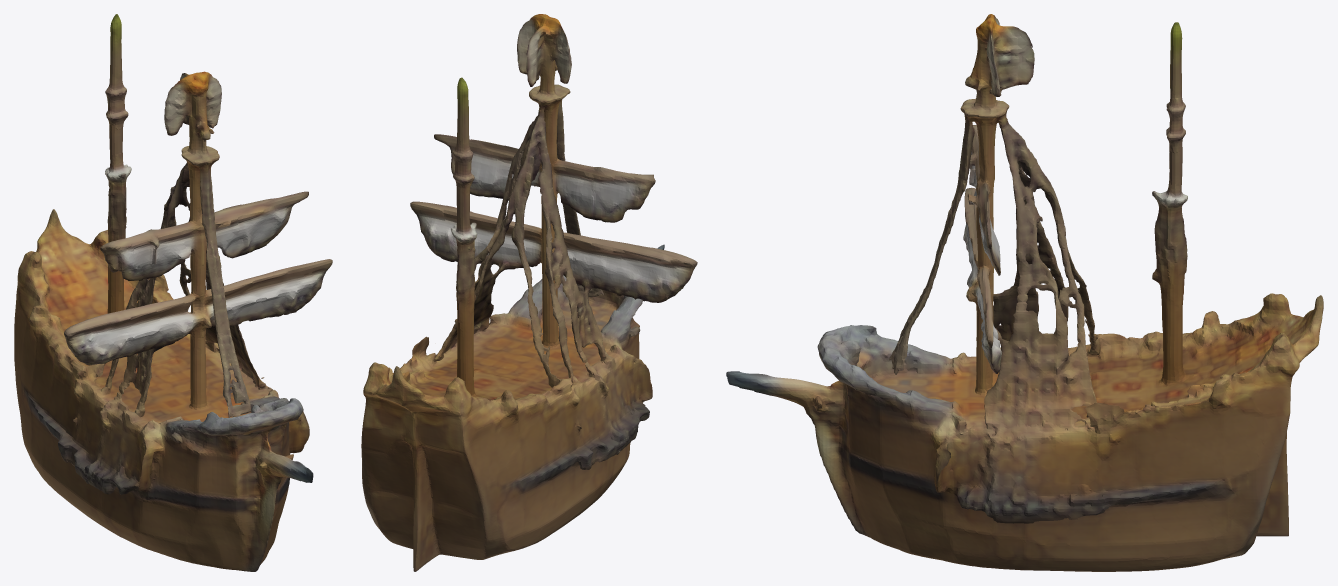
The model's file is fastsam3d.glb.
3 views of the same model, side by side, from view 1: azimuth 30°, elevation 25°; view 2: azimuth 150°, elevation 25°; view 3: azimuth 270°, elevation 25° (orthographic). The views are drawn at different scales.
Parts seen in each view (by area): view 1: world; view 2: world; view 3: world.
Part boxes in pixels (left/top/right/bottom): world: left=14, top=14, right=332, bottom=571; world: left=361, top=14, right=697, bottom=571; world: left=726, top=14, right=1323, bottom=571.
Bounding box in the file's own units: 0.394 × 0.6255 × 0.6535.
